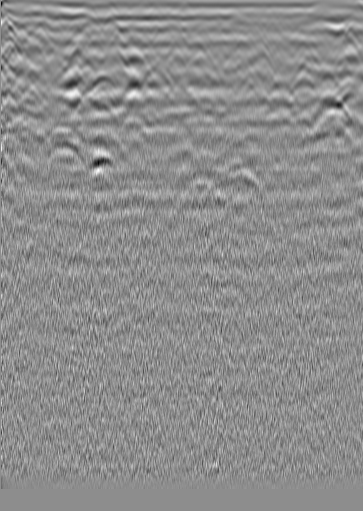가스: (85, 145, 118, 175)
상수: (338, 24, 358, 44)
오수: (30, 19, 50, 39)
우수: (189, 41, 209, 61)
